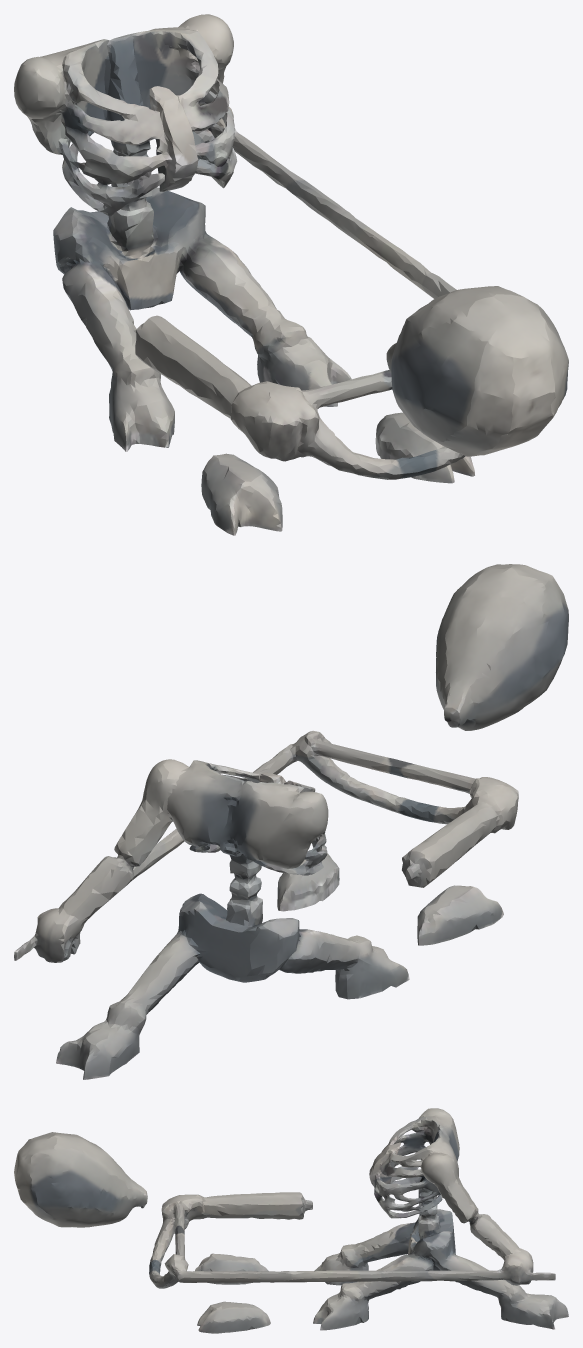
File: skeleton.glb
The picture shows the model from 3 angles, top to bottom: view 1: azimuth 30°, elevation 25°; view 2: azimuth 150°, elevation 25°; view 3: azimuth 270°, elevation 25°; orthographic projection. The views are drawn at different scales.
Visible parts, largest first — view 1: skeleton; view 2: skeleton; view 3: skeleton.
Boxes of the visible parts, bbox=[...] form: skeleton: bbox=[14, 14, 568, 535]; skeleton: bbox=[14, 564, 568, 1079]; skeleton: bbox=[14, 1108, 568, 1333].
Size of the model in its own units: 0.6207 by 0.6256 by 1.89.
Materials: 1 (1 with a texture image).
